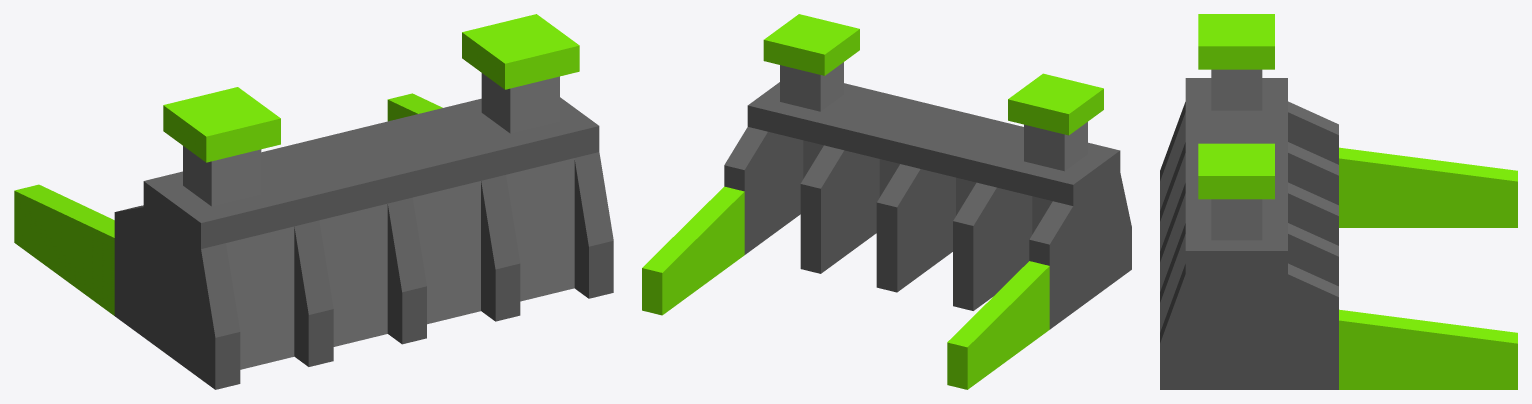
The model's file is tidal.fbx.
3 renders of one model, left to right at view 1: azimuth 30°, elevation 25°; view 2: azimuth 150°, elevation 25°; view 3: azimuth 270°, elevation 25°, orthographic. The views are drawn at different scales.
Parts seen in each view (by area): view 1: cube; view 2: cube; view 3: cube.
Boxes of the visible parts, x1,y1,x2,y2 form: cube: (14,14,613,389); cube: (642,14,1131,389); cube: (1160,14,1517,389).
Size of the model in its own units: 100 by 56.25 by 87.5.
2 materials, 2 textured.
